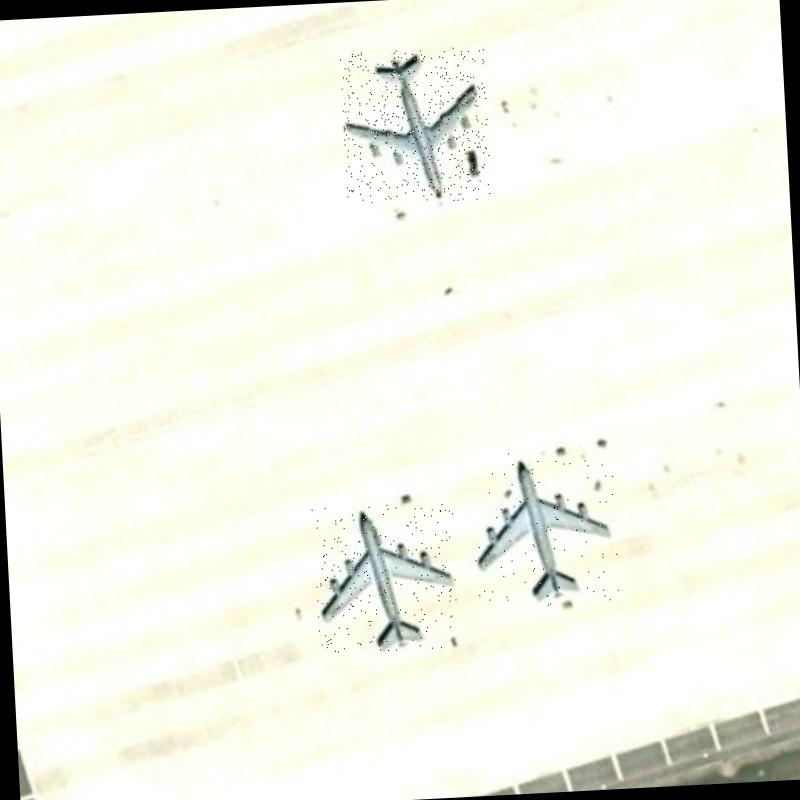A14: (467, 444, 620, 609), (340, 46, 492, 206), (312, 502, 460, 654)
